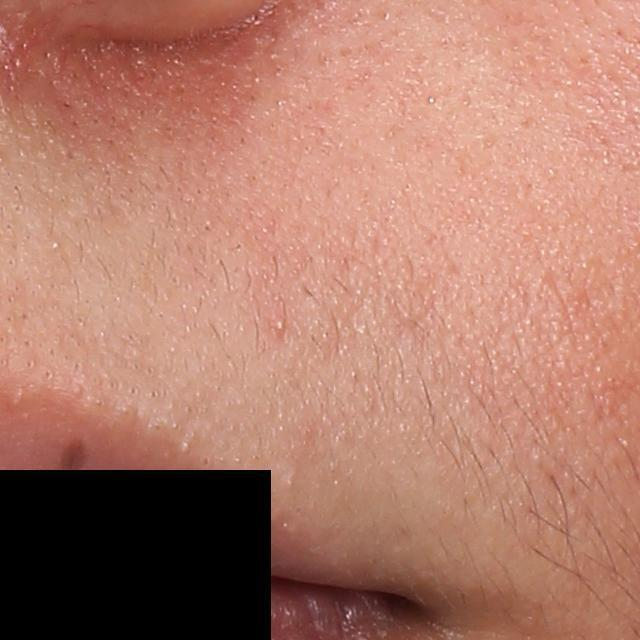comedo: (272, 315, 289, 335)
nevus: (61, 431, 98, 477)
